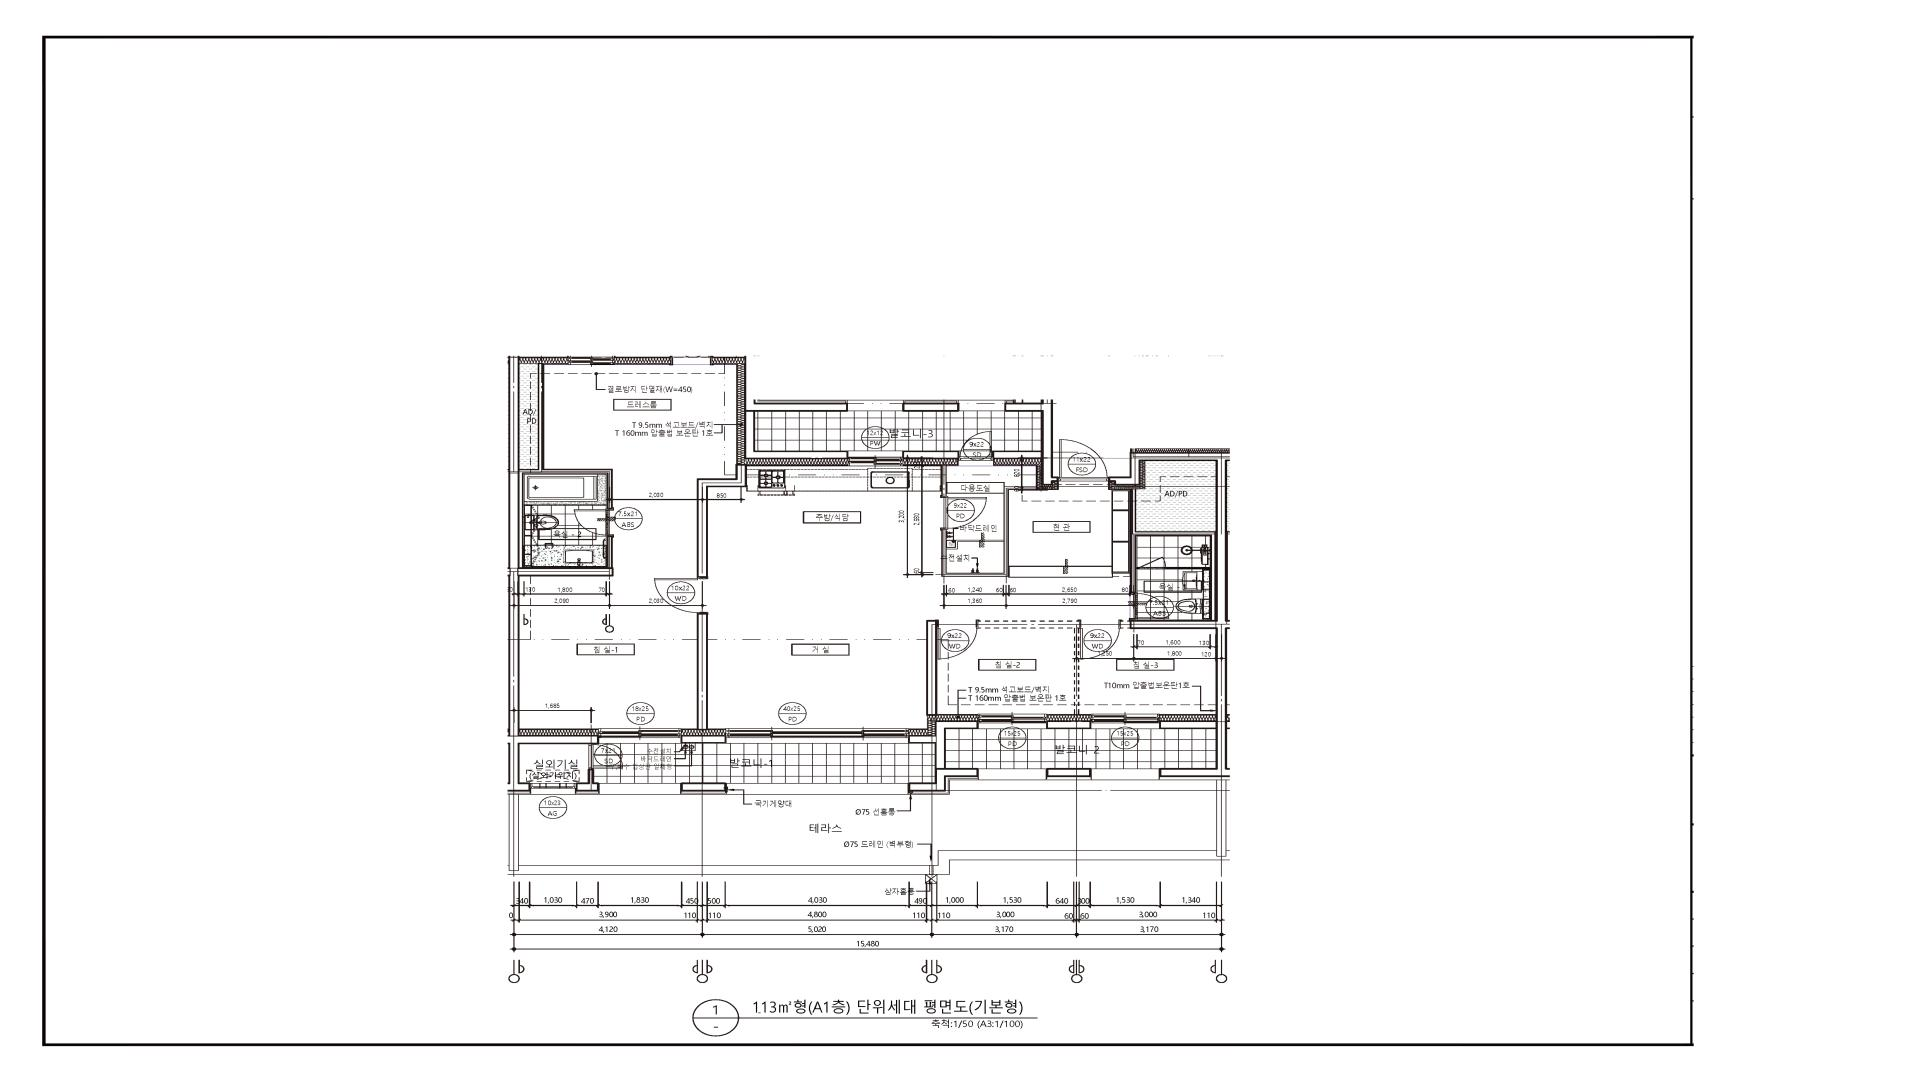background: (0, 3, 1920, 1080)
door: (1059, 439, 1108, 481), (654, 578, 708, 613), (938, 620, 977, 659), (1080, 620, 1120, 659), (940, 497, 988, 529), (574, 509, 615, 535), (1129, 593, 1170, 620), (959, 431, 993, 460), (588, 744, 622, 769), (1138, 556, 1166, 570)
wall: (508, 356, 613, 791), (1108, 452, 1228, 777), (520, 363, 613, 567), (1130, 488, 1215, 620), (977, 620, 1079, 715), (942, 487, 1036, 576), (696, 464, 746, 578), (744, 411, 848, 459), (1005, 402, 1059, 485), (909, 720, 978, 767), (909, 767, 978, 791), (696, 613, 708, 729), (744, 400, 848, 411), (926, 620, 938, 716), (902, 402, 960, 411), (576, 769, 600, 791), (1159, 720, 1216, 729), (902, 451, 959, 459), (1046, 767, 1092, 777), (680, 782, 727, 791), (1047, 720, 1092, 729), (993, 451, 1040, 459), (680, 736, 727, 744), (607, 535, 613, 567), (942, 464, 947, 497), (1120, 621, 1130, 629)
window: (727, 728, 909, 744), (727, 783, 909, 795), (599, 728, 680, 744), (978, 713, 1047, 729), (1092, 713, 1159, 729), (600, 783, 680, 795), (848, 451, 902, 467), (978, 769, 1046, 781), (1092, 769, 1159, 781), (848, 400, 902, 411), (530, 783, 575, 795), (960, 400, 1004, 411), (568, 356, 615, 365), (671, 356, 712, 365)
